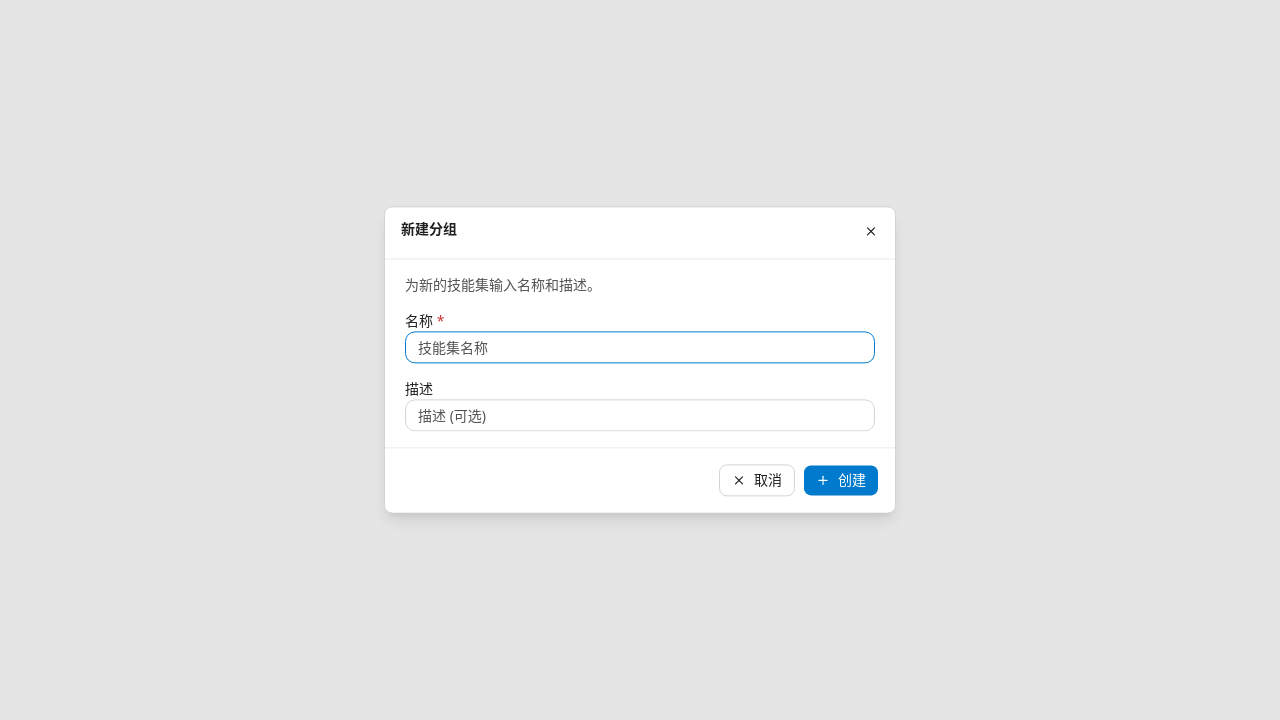
CollectionEditor › shows validation error when name is empty
The width and height of the screenshot is (1280, 720).
Click the button "创建".
click(841, 481)  # box [803,465,879,497]
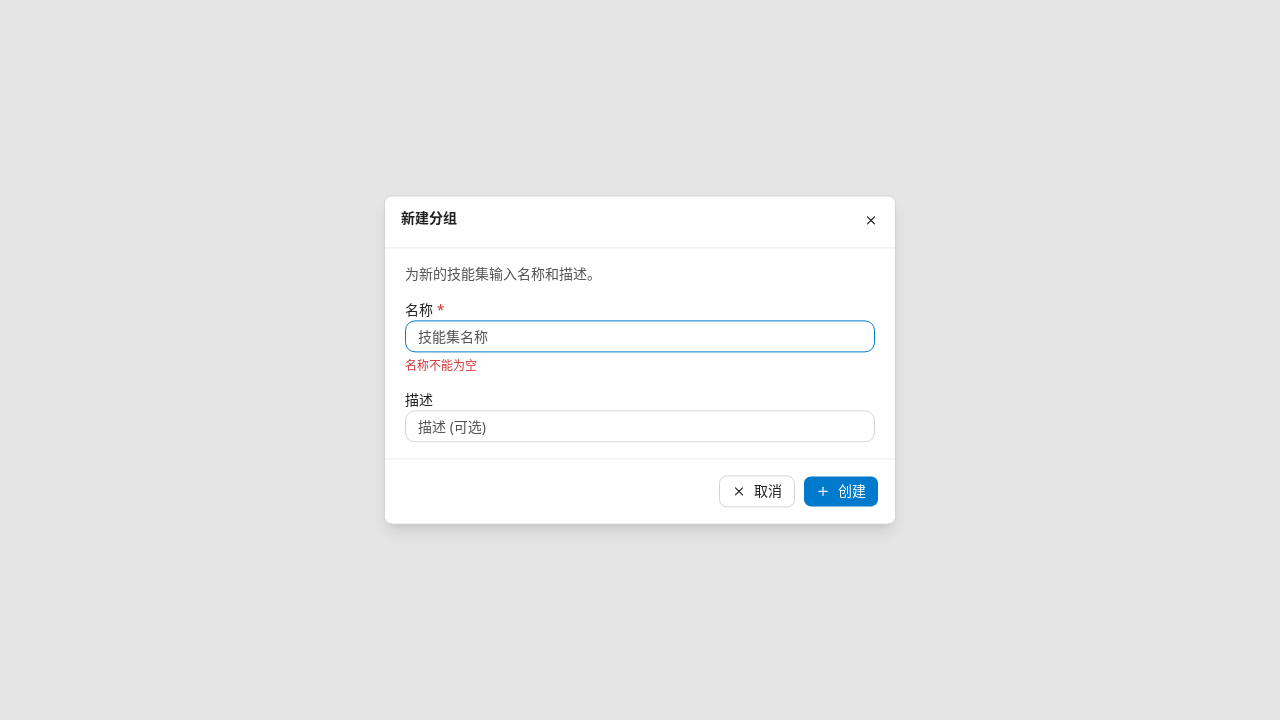
Expected: the text "名称不能为空" is shown, [405,358,477,375]
